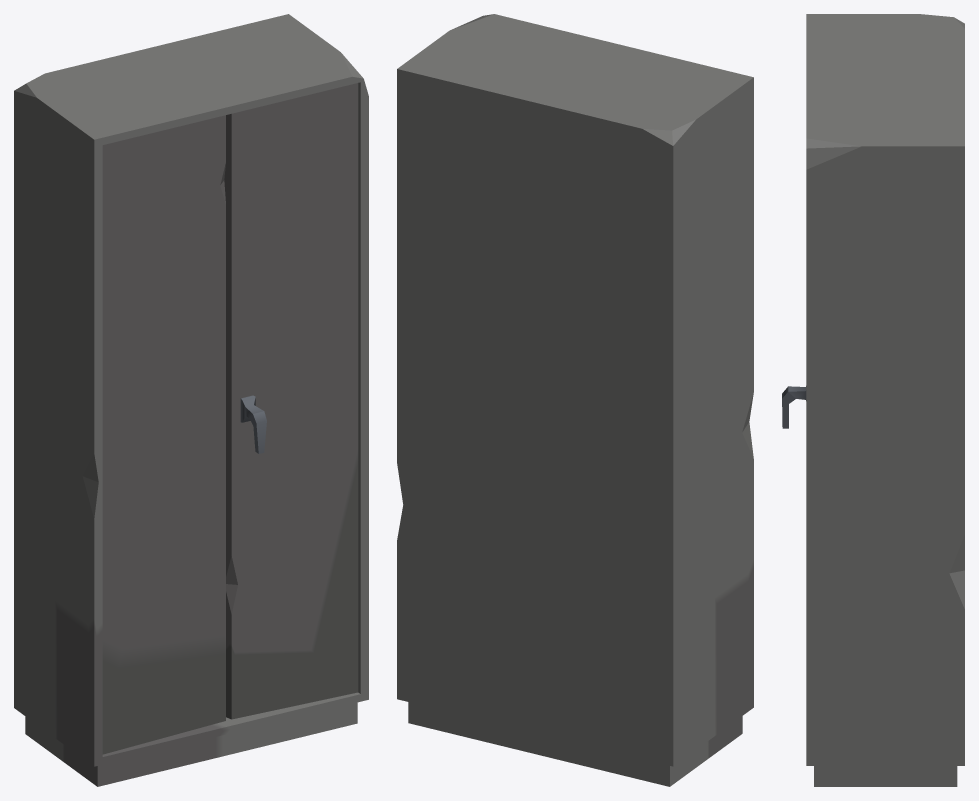
Rendered from SM_Prop_Cabinet_01.fbx.
The picture shows the model from 3 angles, left to right: view 1: azimuth 30°, elevation 25°; view 2: azimuth 150°, elevation 25°; view 3: azimuth 270°, elevation 25°; orthographic projection.
Visible parts, largest first — view 1: SM_Prop_Cabinet_01, SM_Prop_Cabinet_Door_02, SM_Prop_Cabinet_Door_01; view 2: SM_Prop_Cabinet_01; view 3: SM_Prop_Cabinet_01, SM_Prop_Cabinet_Door_02.
Boxes of the visible parts, x1,y1,x2,y2 form: SM_Prop_Cabinet_01: [14, 14, 368, 786]; SM_Prop_Cabinet_Door_02: [224, 83, 358, 719]; SM_Prop_Cabinet_Door_01: [102, 115, 225, 754]; SM_Prop_Cabinet_01: [397, 14, 753, 786]; SM_Prop_Cabinet_01: [806, 14, 964, 786]; SM_Prop_Cabinet_Door_02: [782, 386, 806, 428].
Bounding box in the file's own units: 105 × 238 × 61.36.
